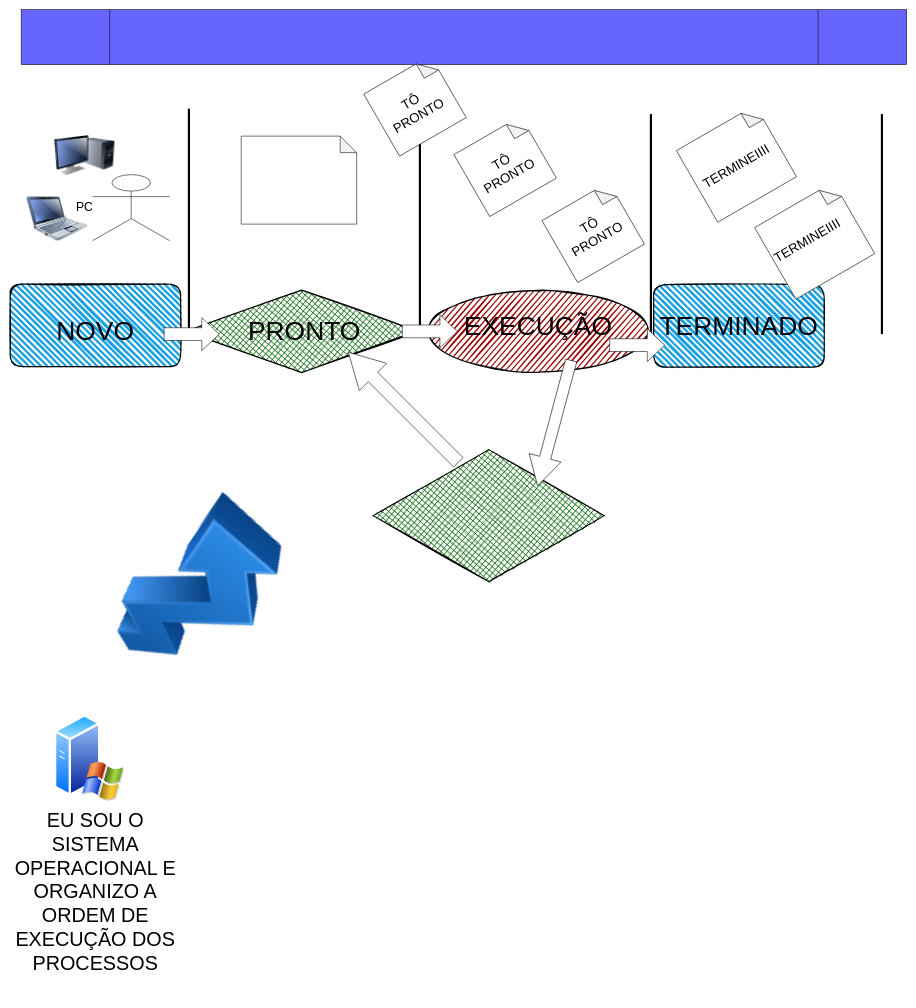
Some shapes in this 916 by 1008 pixel diagram are drawn without their labels. Here are the shapes that lost their labels. From the top down, the centre of each, then its label:
At (x=464, y=37): "PROCESSOS".
At (x=299, y=180): "Processo pronto para execuçao".
At (x=131, y=207): "Actor".
At (x=488, y=515): "BLOQUEADO".
